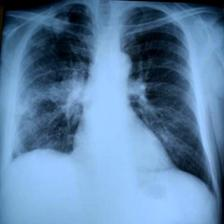tuberculosis: (6, 0, 218, 206)
